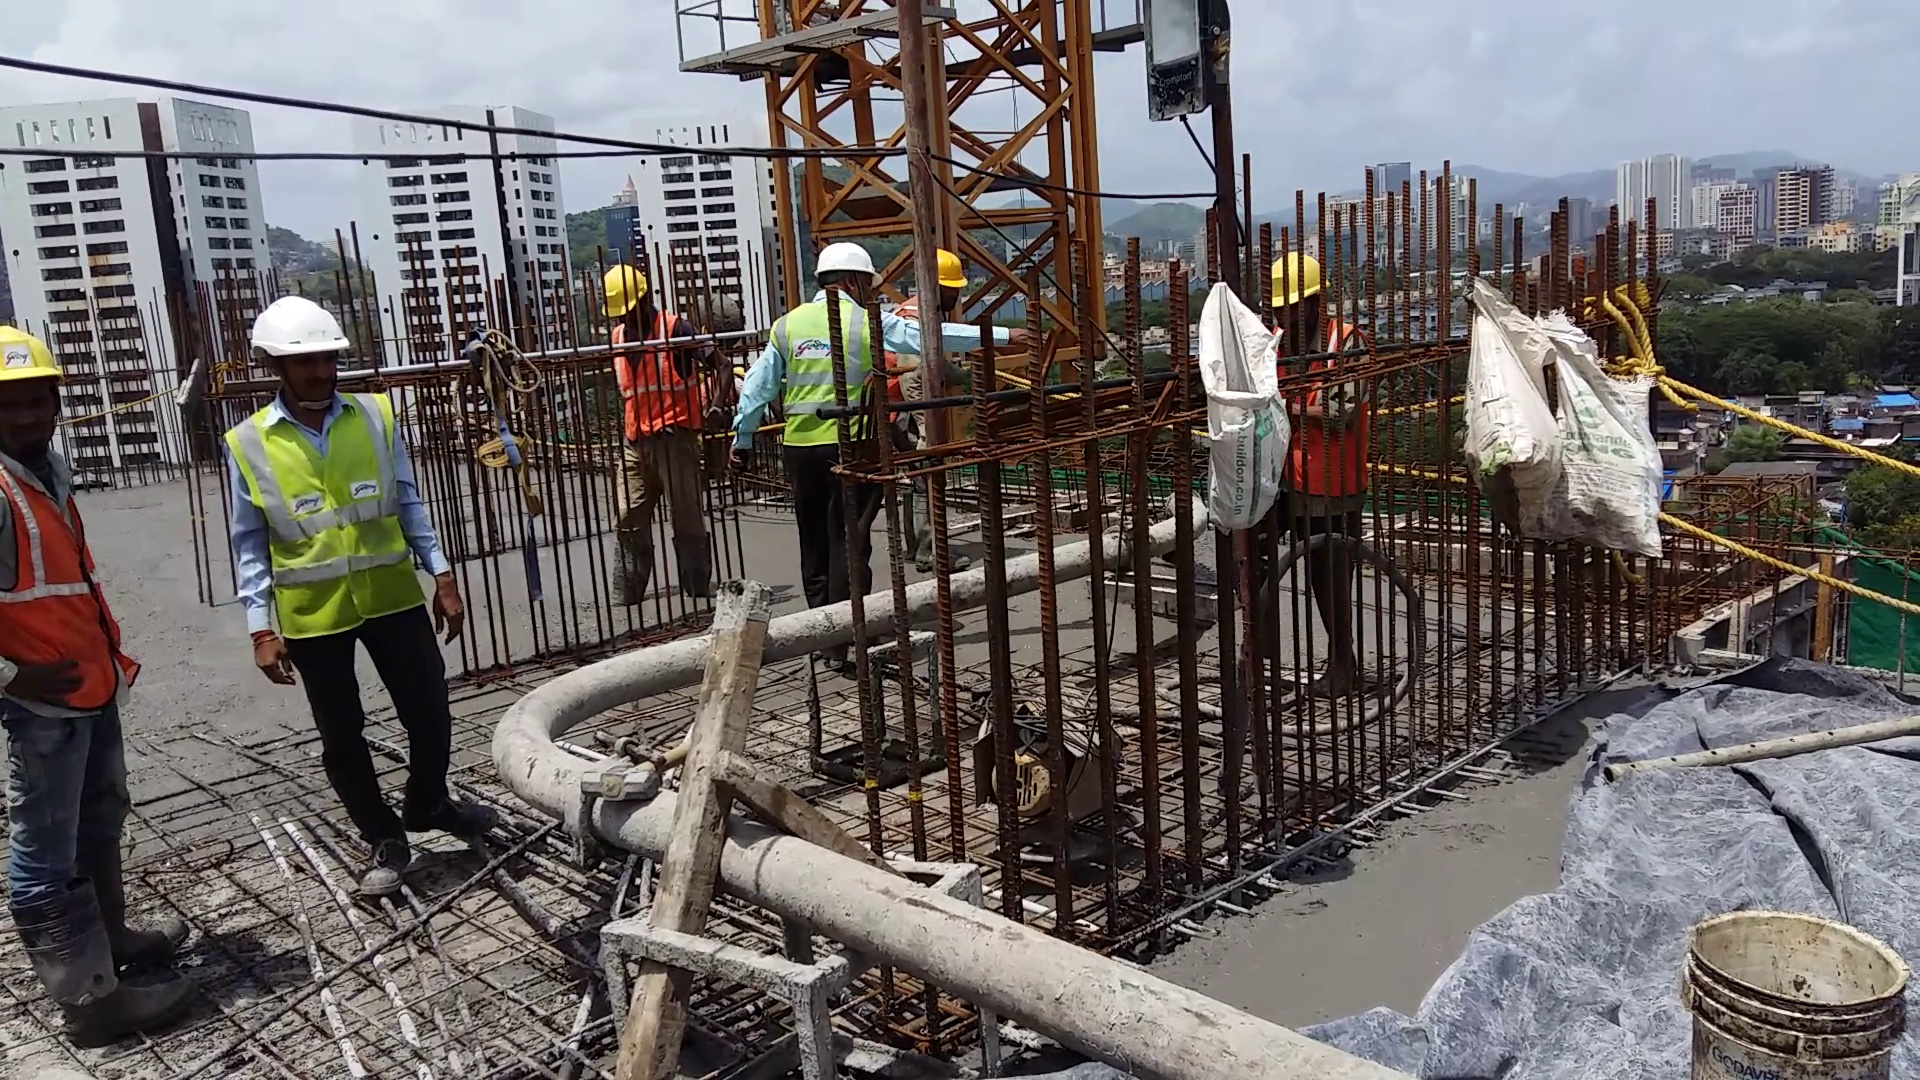SAFE: (237, 298, 409, 647), (1, 326, 121, 716), (771, 237, 877, 454)
